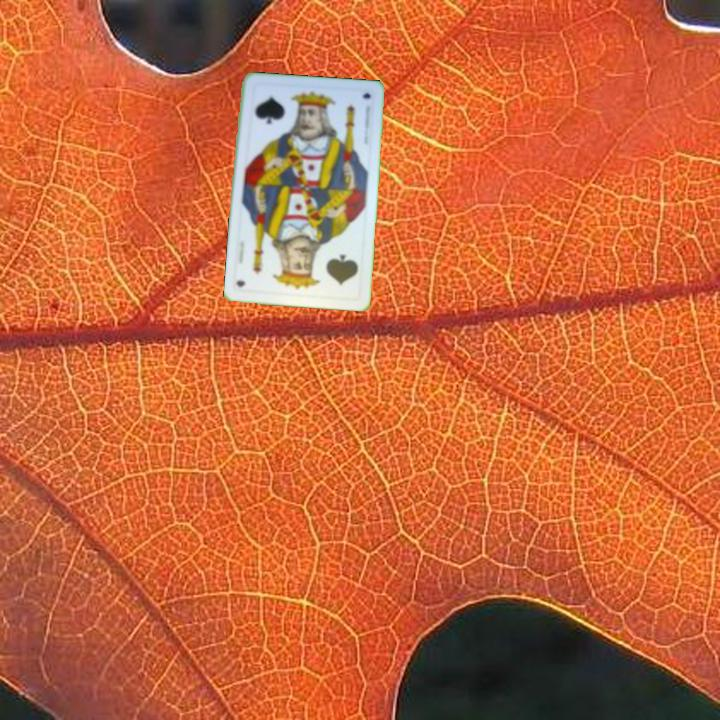s_k.png: (294, 239, 365, 301), (244, 82, 314, 144)
